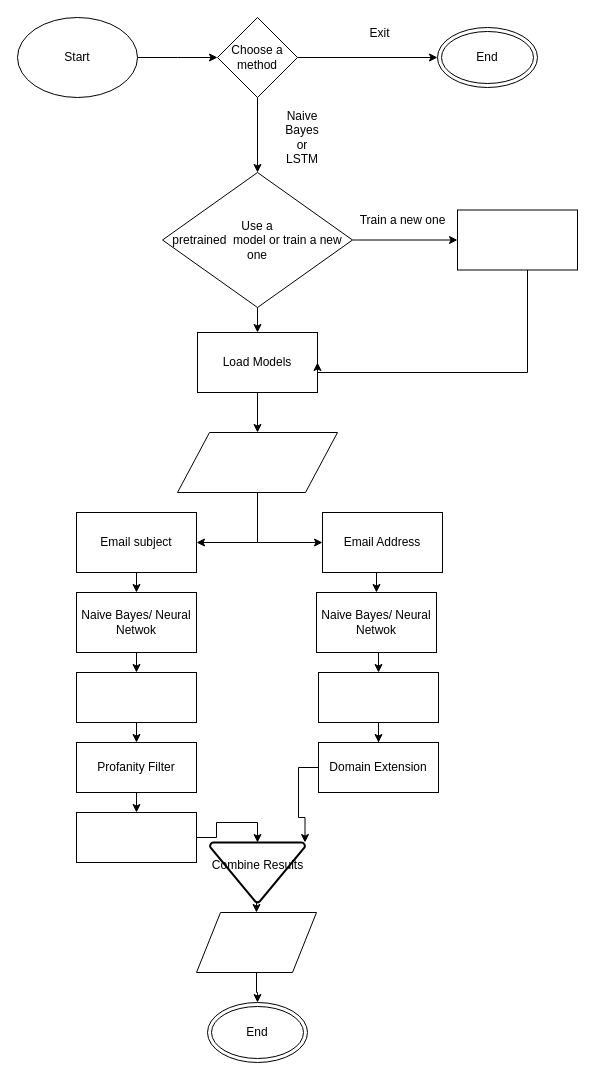
The diagram is 595 pixels wide and 1080 high, and some of its shapes have lost their labels. The shapes that lost their labels are listed below. From the top down, each one's box as (x1, y1, x2, y2) in pixels, then its label:
(456, 209, 578, 270): Train New model
(176, 432, 338, 492): Enter Subject Enter Email Address
(76, 672, 196, 722): Spell checking filter
(318, 672, 438, 722): Domain Name
(76, 812, 196, 862): Keyword Filter
(196, 912, 316, 972): Display result
